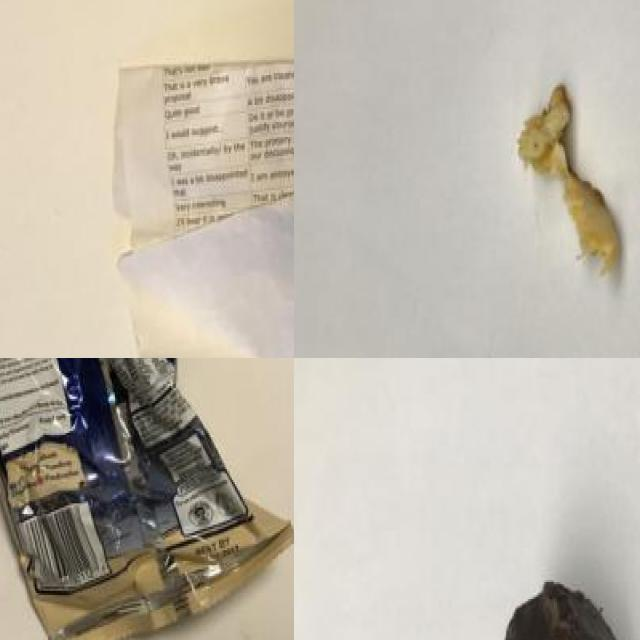compost: (490, 59, 640, 307), (477, 550, 640, 640)
paper: (111, 51, 294, 358)
trash: (0, 358, 294, 640)
